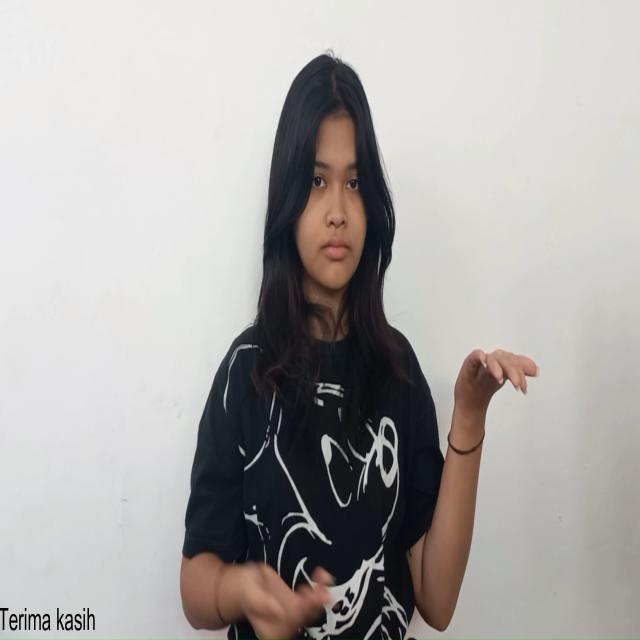Terima kasih -BISINDO-: (450, 342, 542, 424)
